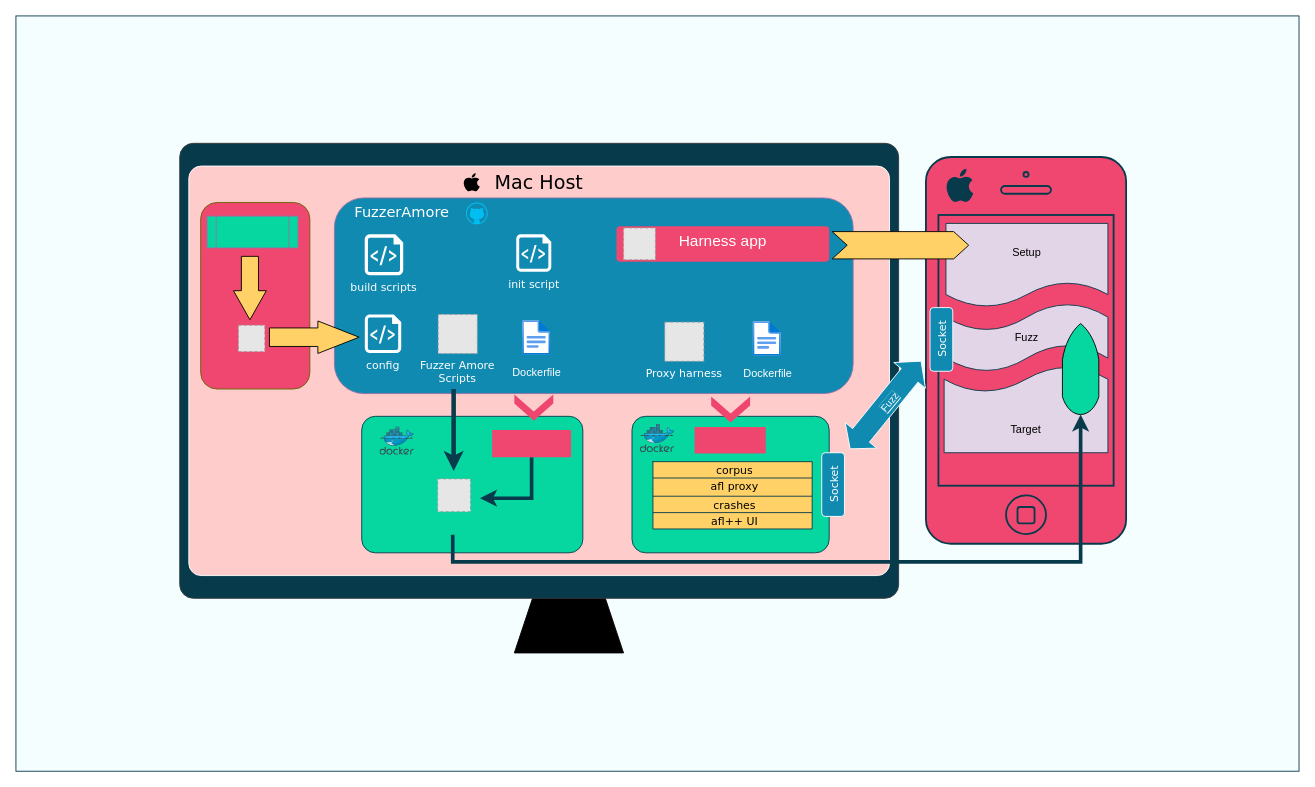
The diagram is 1315 pixels wide and 787 high, and some of its shapes have lost their labels. Grey dashed boxes stand in for pictures. Here are the shapes that lost their labels. From the top down, the centre of each, then its label:
At (252,231): "Binary Analysis".
At (900,245): "Install".
At (249,287): "Analyze".
At (314,336): "Set config".
At (1080,369): "Hooks".
At (531,443): "lldb".
At (729,440): "AFL++".
